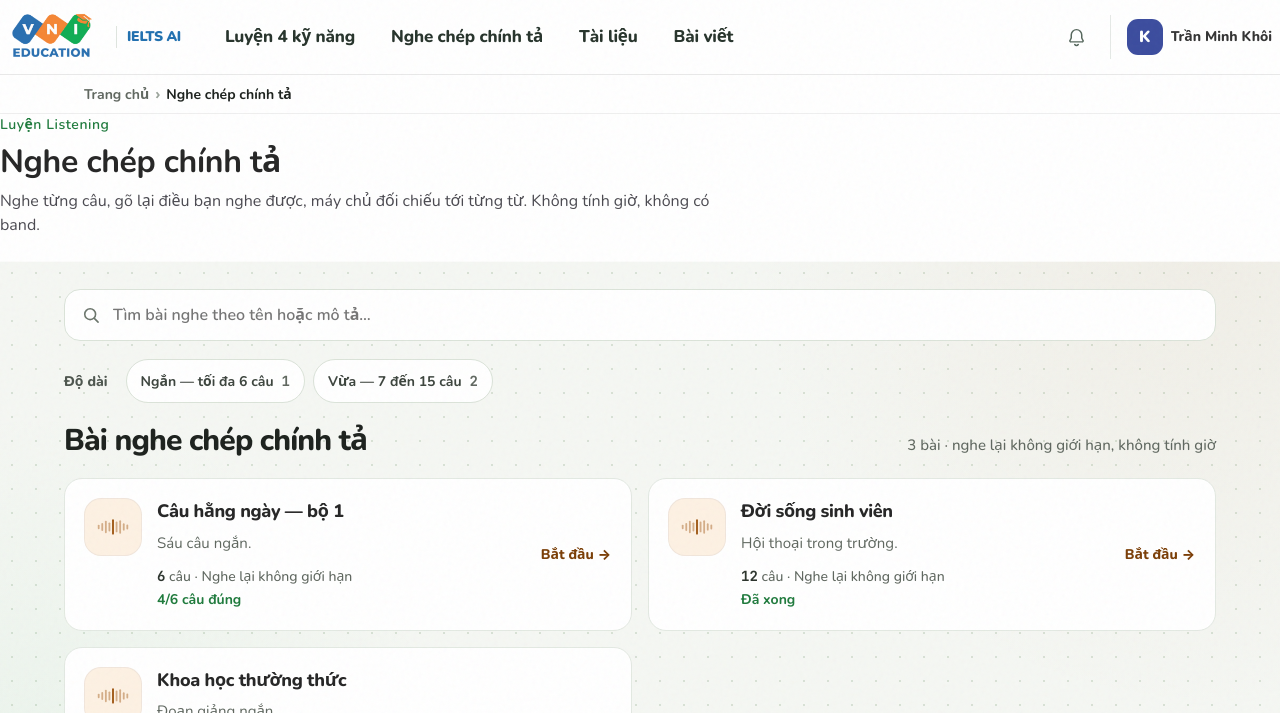
Test case: offers a way out of a search that matched nothing
Step 1. Type "zzzzz" into the search field labelled "Tìm bài nghe theo tên hoặc mô tả…" → (656, 315), box left=113, top=303, right=1199, bottom=328
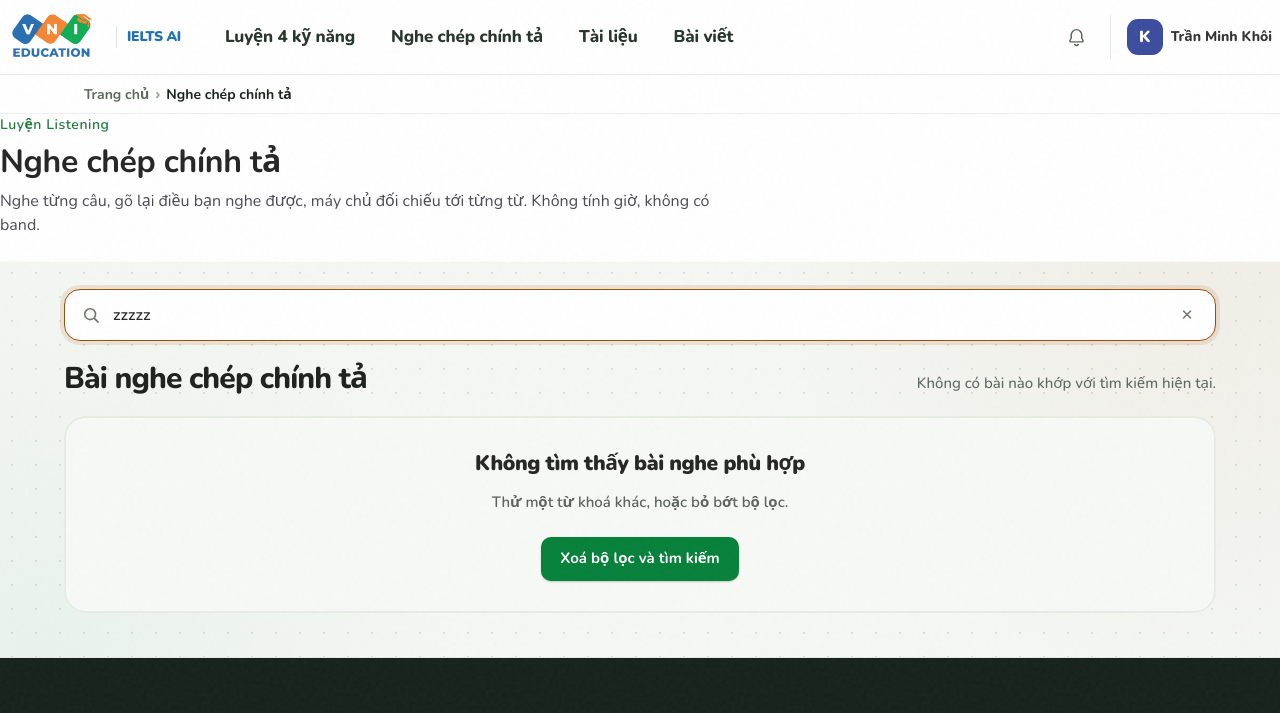
Step 2. Click the button "Xoá bộ lọc và tìm kiếm" → (640, 559), box left=541, top=537, right=739, bottom=581
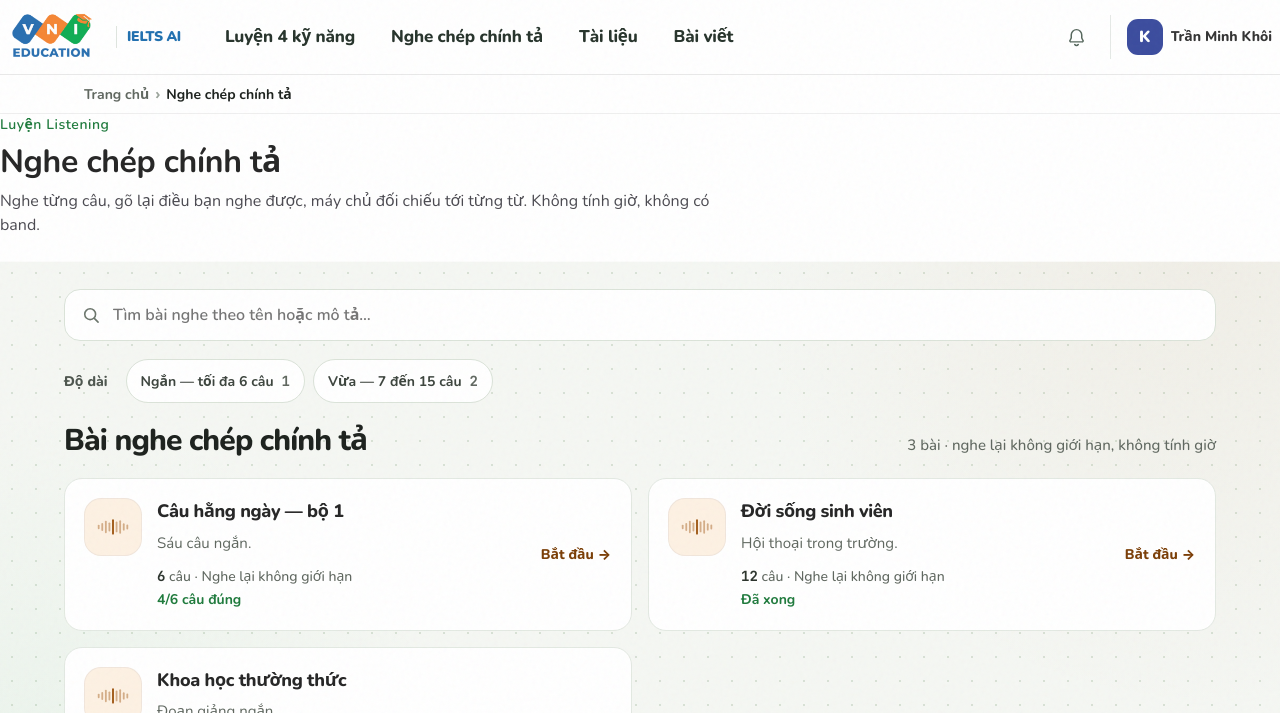
expect the link "Câu hằng ngày — bộ 1" is shown: met, box left=157, top=499, right=344, bottom=523
